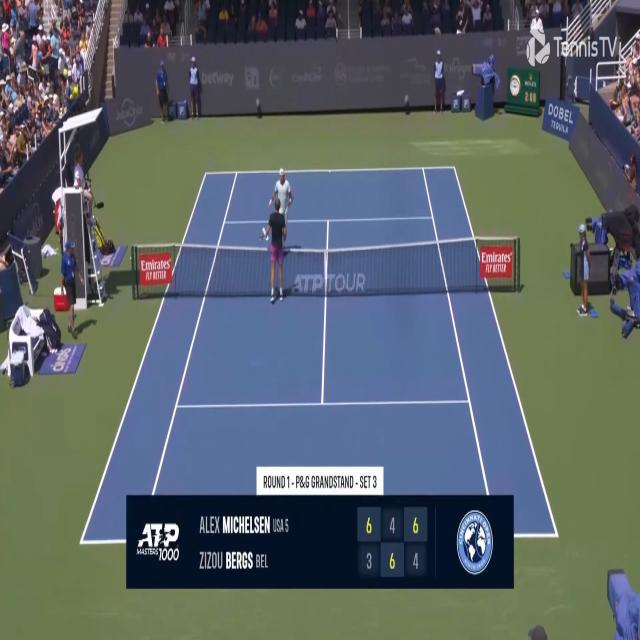tennis-player: (258, 196, 292, 313), (268, 165, 295, 243)
